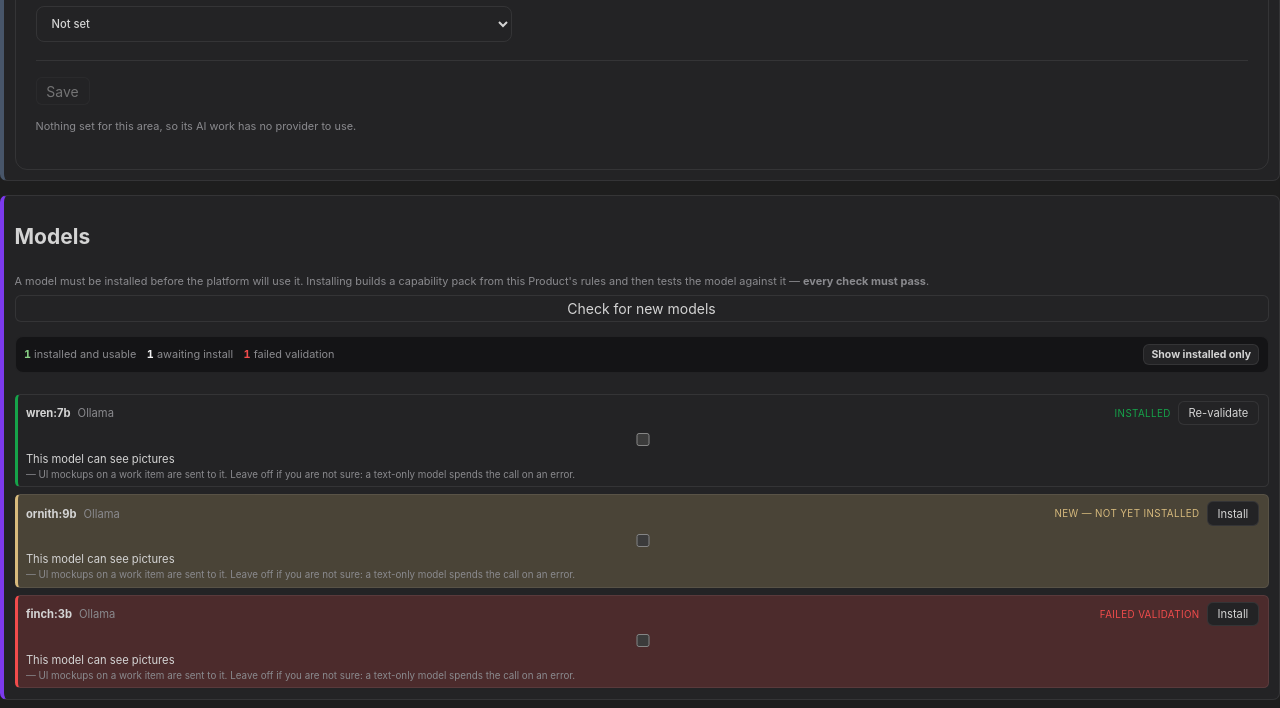
Test case: AdminArea › counts the installed models apart from the ones still waiting
(page scrolled)
Expected: the text "wren:7b" is shown, [26,406,71,420]
Expected: the text "ornith:9b" is shown, [26,507,76,521]
…and the filter narrows to the ones the platform will actually use.
Click the button "Show installed only": [1201, 354] box [1143,344,1259,365]
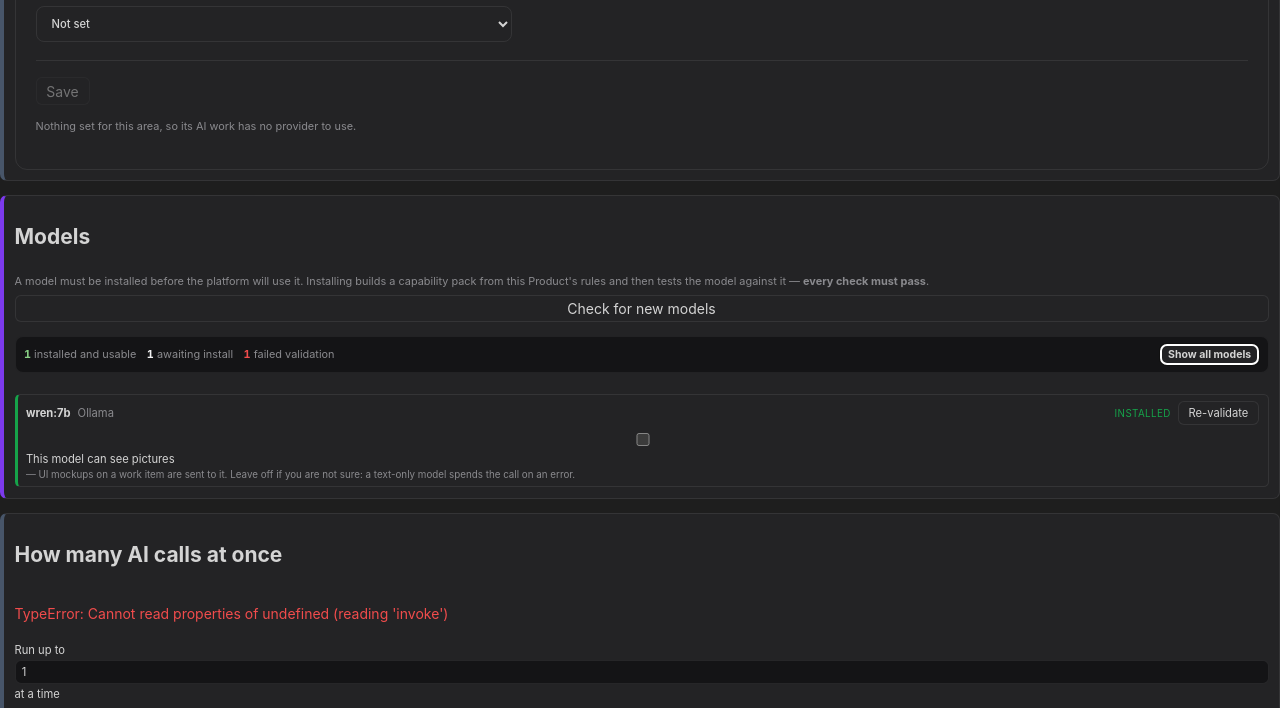
Expected: the text "wren:7b" is shown, [26,406,71,420]
Expected: the text "ornith:9b" is gone
Expected: the text "finch:3b" is gone
